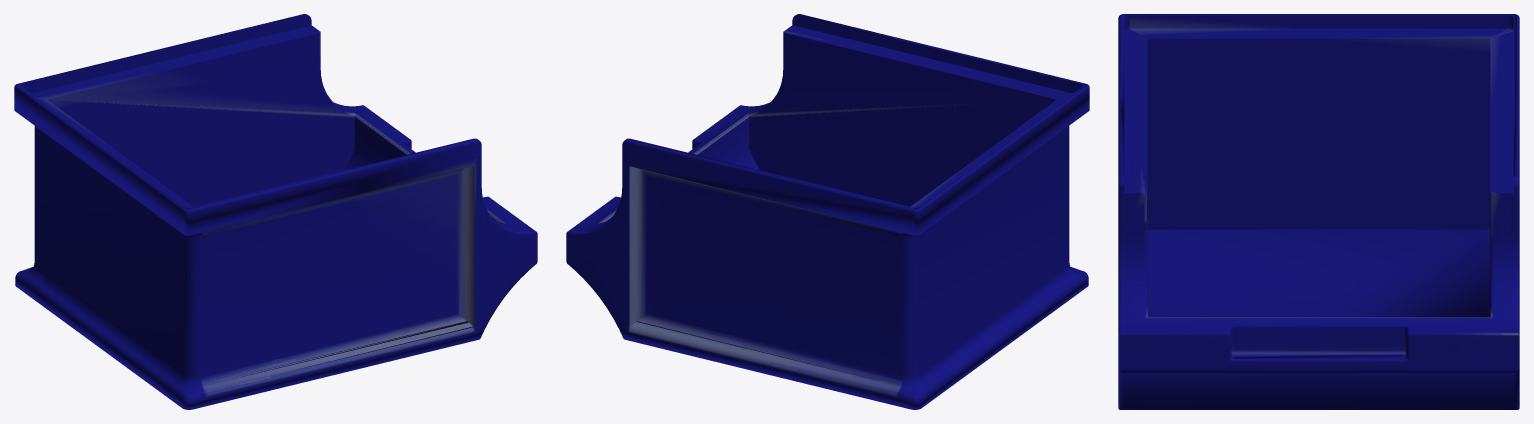
The model's file is Container_box_blue.obj.
The picture shows the model from 3 angles, left to right: view 1: azimuth 30°, elevation 25°; view 2: azimuth 150°, elevation 25°; view 3: azimuth 270°, elevation 25°; orthographic projection. The views are drawn at different scales.
Visible parts, largest first — view 1: Container_box_blue_Material; view 2: Container_box_blue_Material; view 3: Container_box_blue_Material.
Boxes of the visible parts, x1,y1,x2,y2 form: Container_box_blue_Material: [14, 14, 537, 409]; Container_box_blue_Material: [566, 14, 1089, 409]; Container_box_blue_Material: [1118, 14, 1519, 409].
Size of the model in its own units: 1.6 by 0.87 by 1.37.
1 material, 1 textured.
